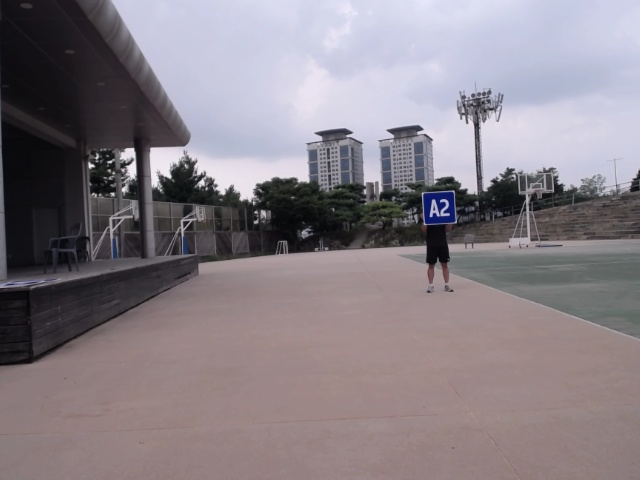delivery_a2: (422, 191, 456, 224)
